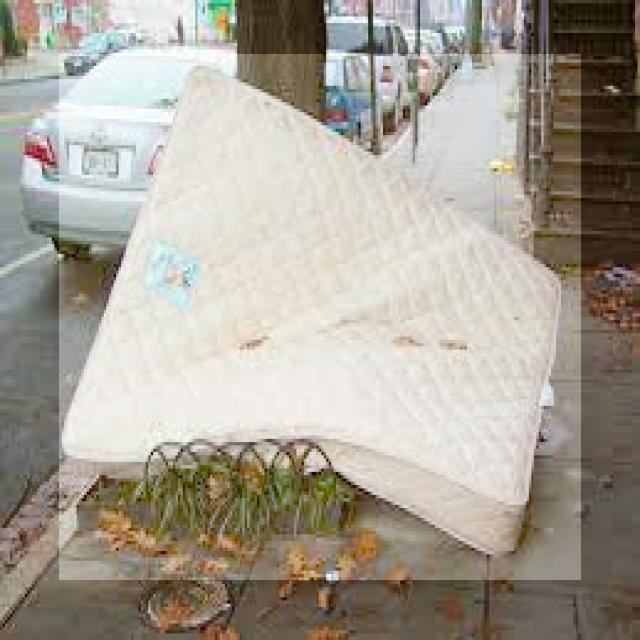dumping: (59, 54, 581, 580)
